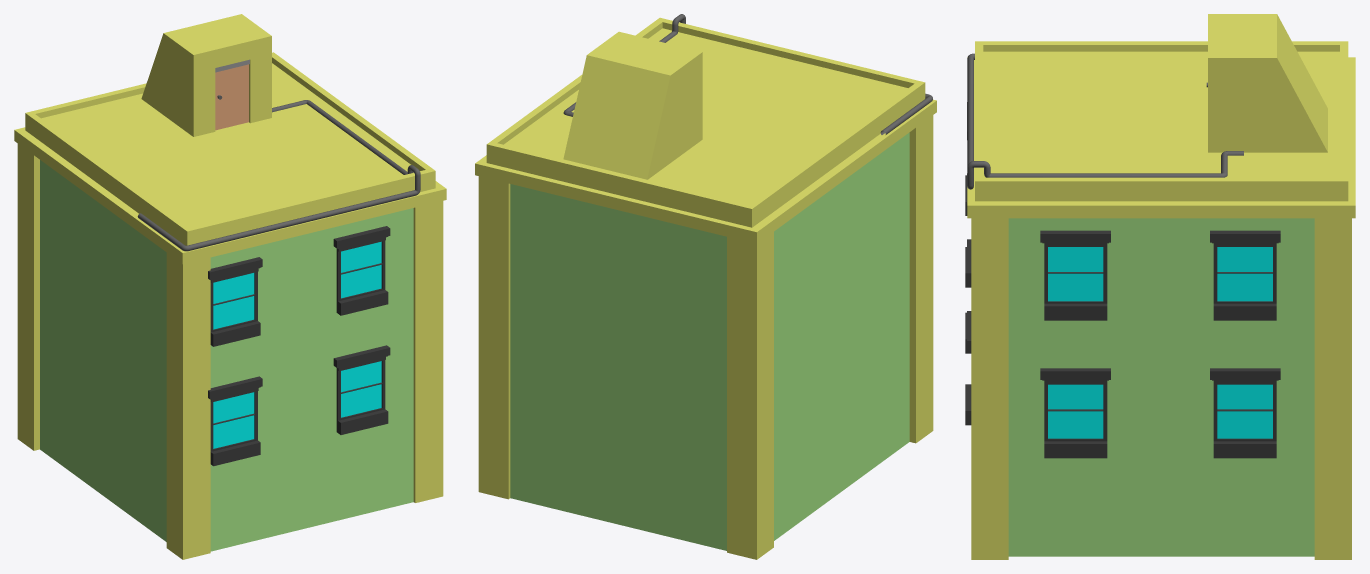
The model's file is building_05.fbx.
The picture shows the model from 3 angles, left to right: view 1: azimuth 30°, elevation 25°; view 2: azimuth 150°, elevation 25°; view 3: azimuth 270°, elevation 25°; orthographic projection. The views are drawn at different scales.
Visible parts, largest first — view 1: Vert.042; view 2: Vert.042; view 3: Vert.042.
Part boxes in pixels (box(x1,y1,x2,y2)): Vert.042: box(14, 14, 446, 559); Vert.042: box(475, 14, 936, 559); Vert.042: box(965, 14, 1355, 559).
Bounding box in the file's own units: 990 × 1441 × 1101.
